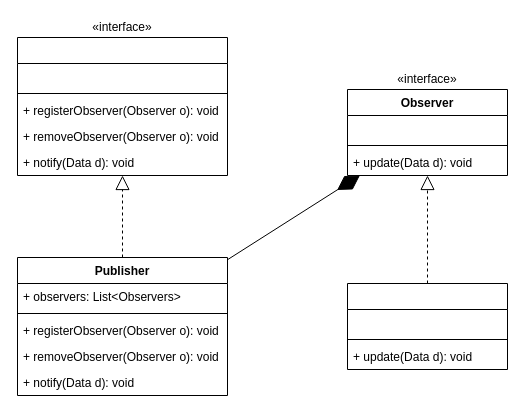
This 525x415 diagram has some shape labels left out. The shapes that lost their labels are listed below. From the top down, each one's box as (x1, y1, x2, y2) in pixels, then its label:
(16, 36, 228, 176): Observable
(346, 282, 508, 370): Subscriber
